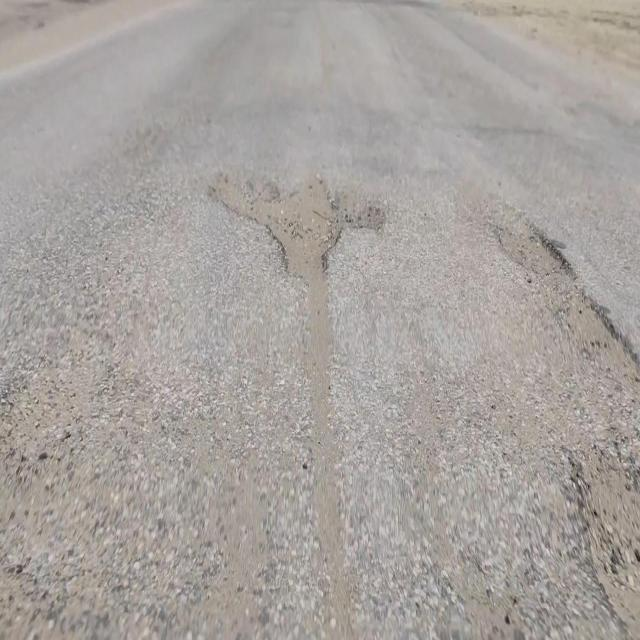Pothole: (211, 171, 386, 283), (497, 223, 576, 278)
